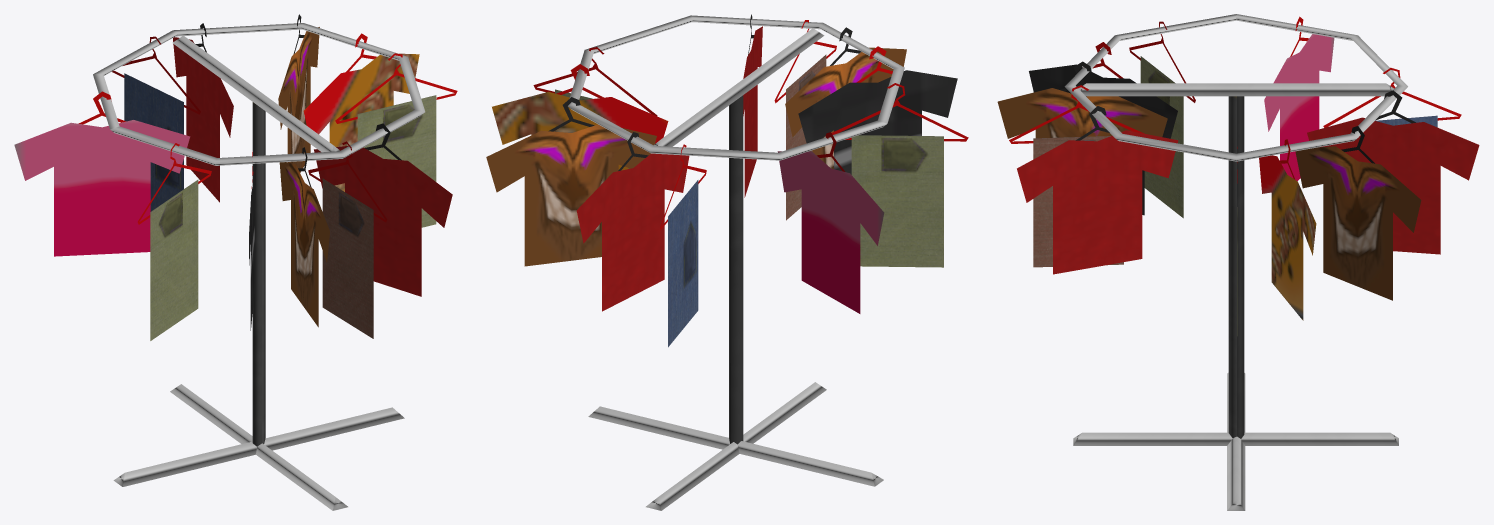
File: Clothes_CircleRack_TypeB.fbx
3 renders of one model, left to right at view 1: azimuth 30°, elevation 25°; view 2: azimuth 150°, elevation 25°; view 3: azimuth 270°, elevation 25°, orthographic.
Parts seen in each view (by area): view 1: Clothes_CircleRack_TypeB; view 2: Clothes_CircleRack_TypeB; view 3: Clothes_CircleRack_TypeB.
Boxes of the visible parts, x1,y1,x2,y2 form: Clothes_CircleRack_TypeB: [14, 14, 457, 510]; Clothes_CircleRack_TypeB: [486, 14, 968, 510]; Clothes_CircleRack_TypeB: [997, 14, 1479, 510].
Size of the model in its own units: 189 by 167 by 200.
